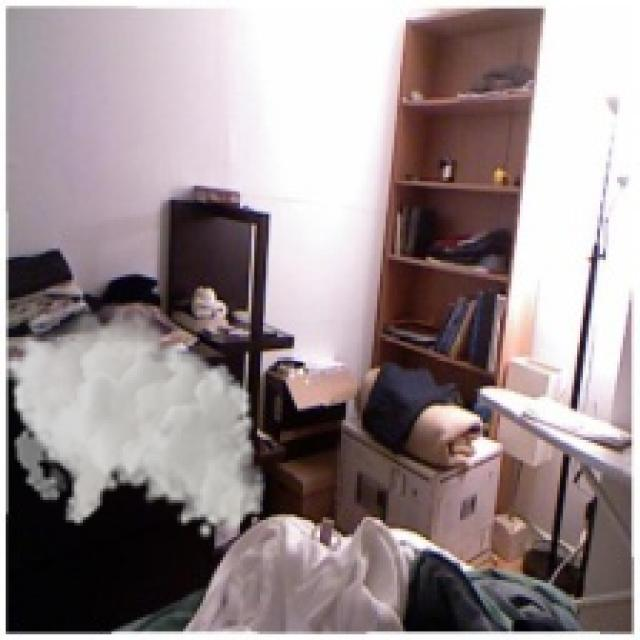smoke: (6, 300, 266, 540)
